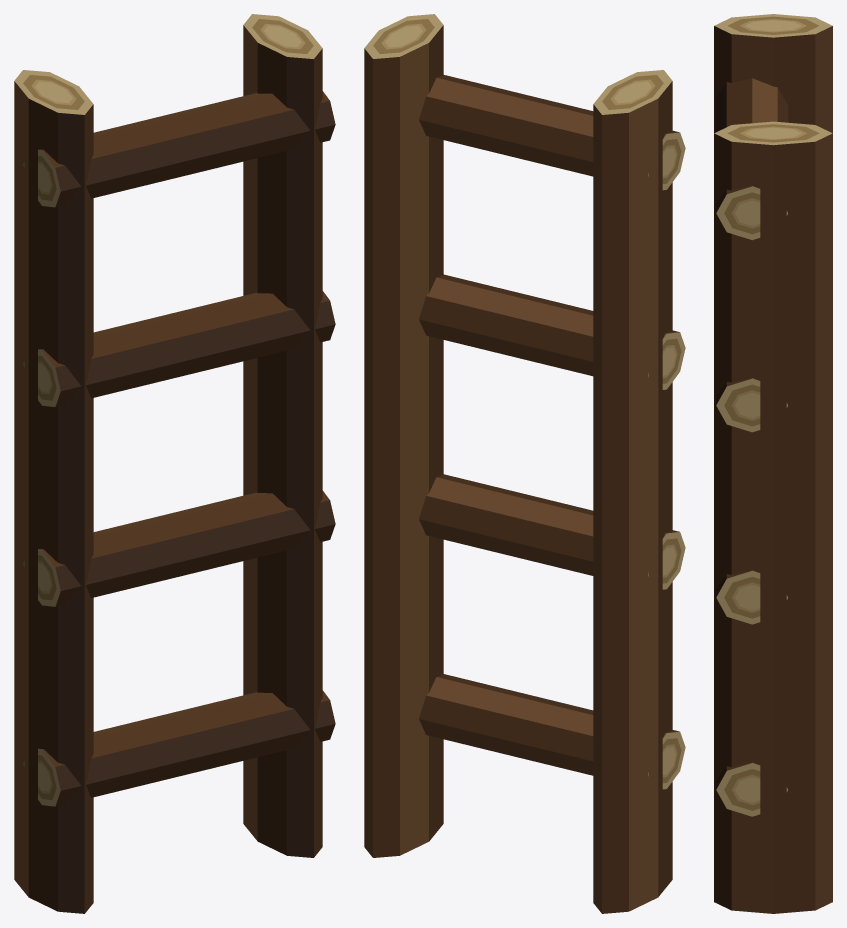
File: crude_ladder_2.glb
The picture shows the model from 3 angles, left to right: view 1: azimuth 30°, elevation 25°; view 2: azimuth 150°, elevation 25°; view 3: azimuth 270°, elevation 25°; orthographic projection. The views are drawn at different scales.
Parts seen in each view (by area): view 1: crude_ladder_2; view 2: crude_ladder_2; view 3: crude_ladder_2.
Boxes of the visible parts, box(x1,y1,x2,y2) form: crude_ladder_2: box(14, 14, 335, 913); crude_ladder_2: box(364, 14, 685, 913); crude_ladder_2: box(714, 14, 832, 913).
Size of the model in its own units: 0.732 by 2 by 0.28.
